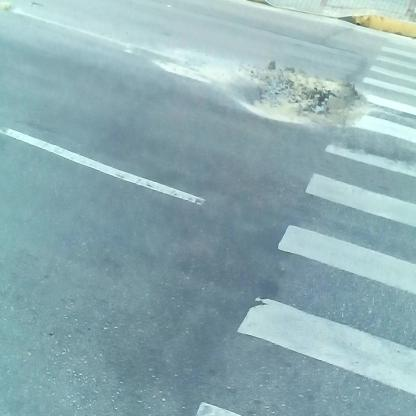crosswalk: (259, 39, 416, 416)
sidewalk: (281, 2, 416, 39)
